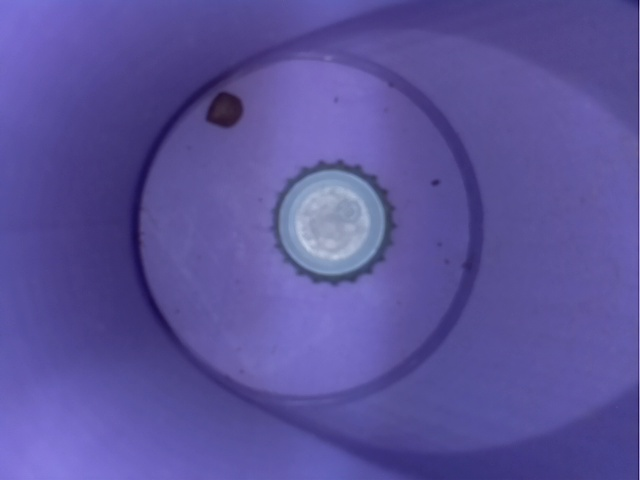capsule: (267, 149, 399, 295)
croquette: (202, 84, 245, 140)
